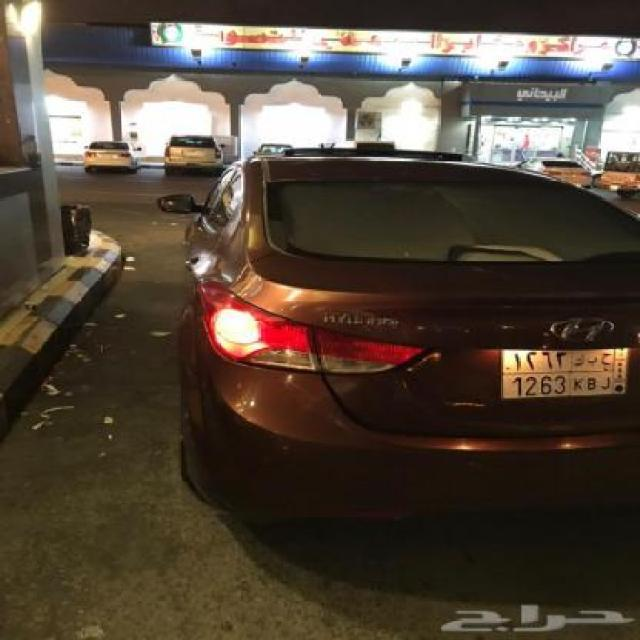license_plate: (497, 344, 634, 402)
